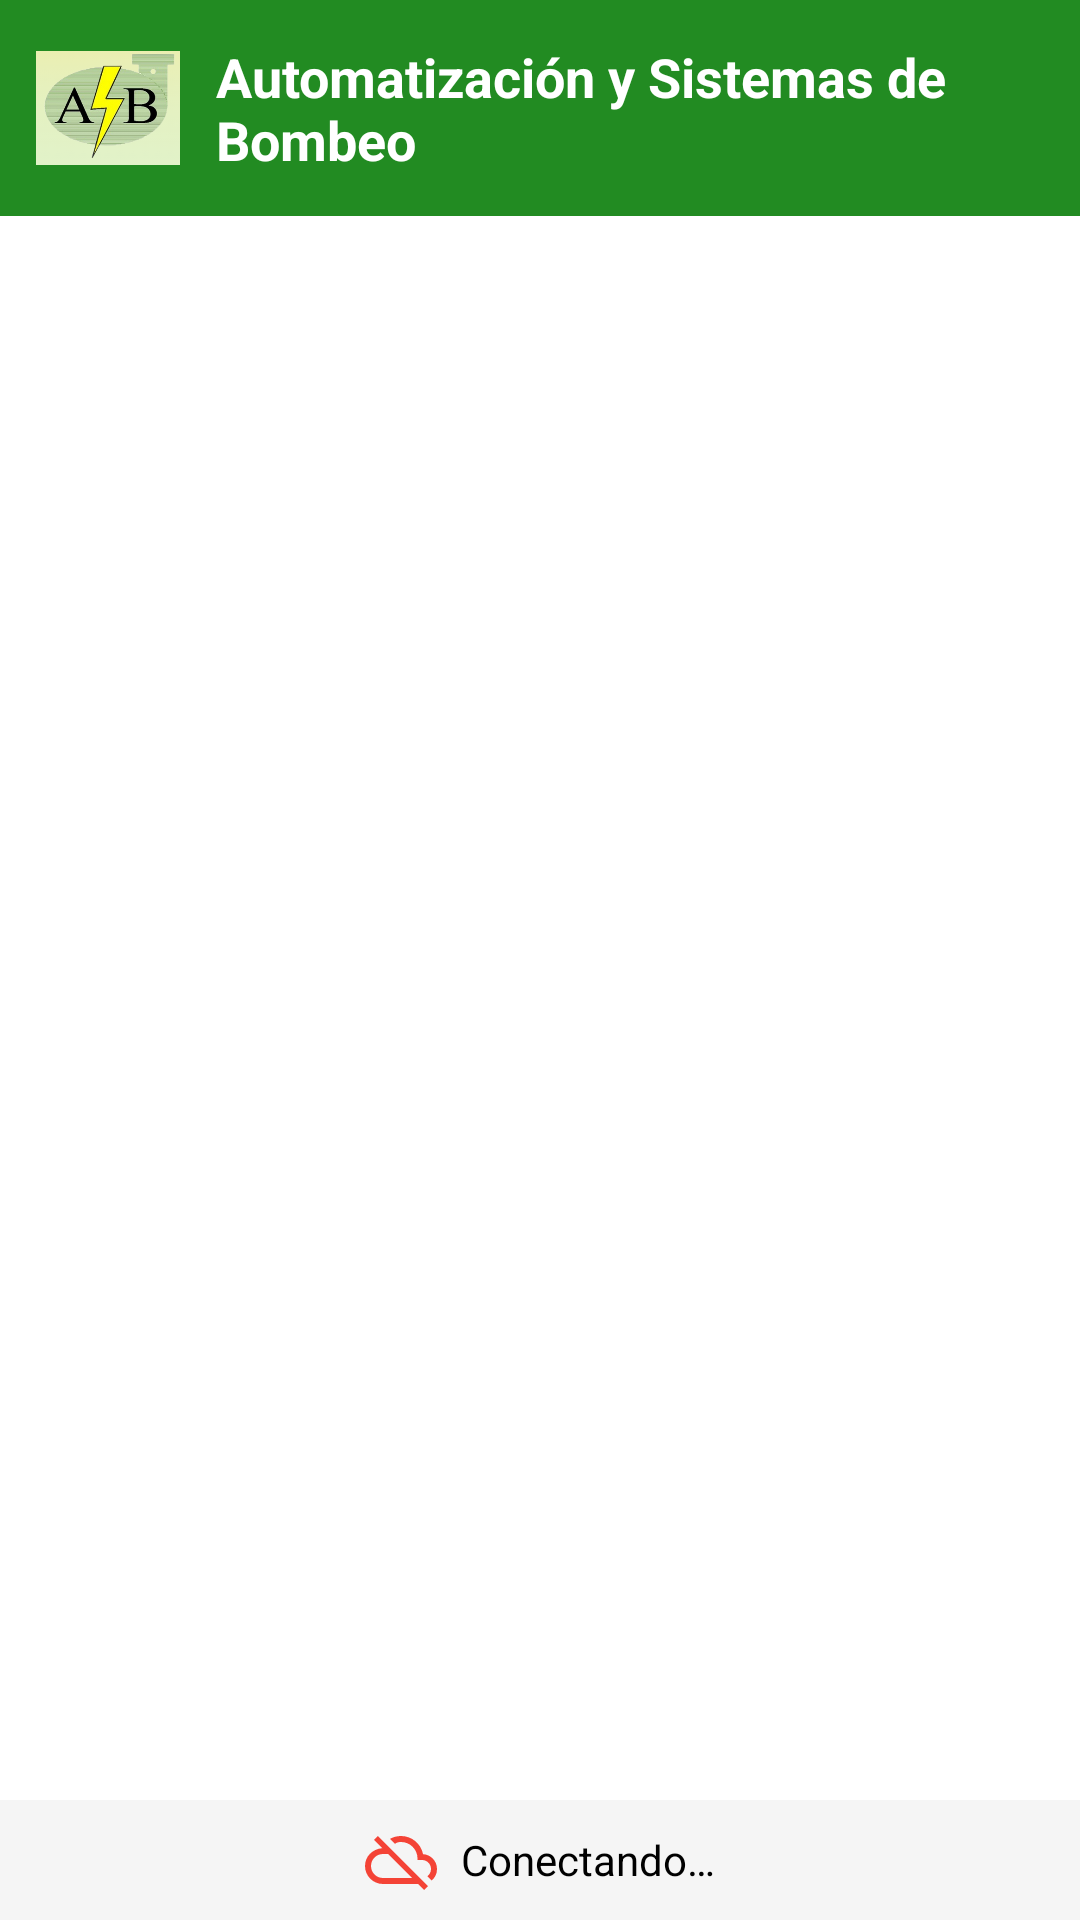

Named icons in this screenshot (1080*1920) and their bounding boxes, {"x1": x1, "y1": y1, "x2": x2, "y2": y2}:
Estado de conexión MQTT: {"x1": 365, "y1": 1836, "x2": 437, "y2": 1890}
